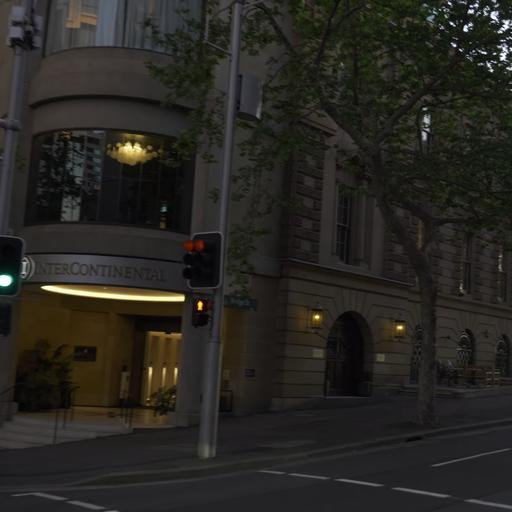Street light: (194, 0, 295, 460), (181, 230, 222, 290), (0, 233, 25, 298), (4, 4, 38, 51), (190, 295, 211, 327), (307, 300, 324, 332), (393, 317, 406, 341)
